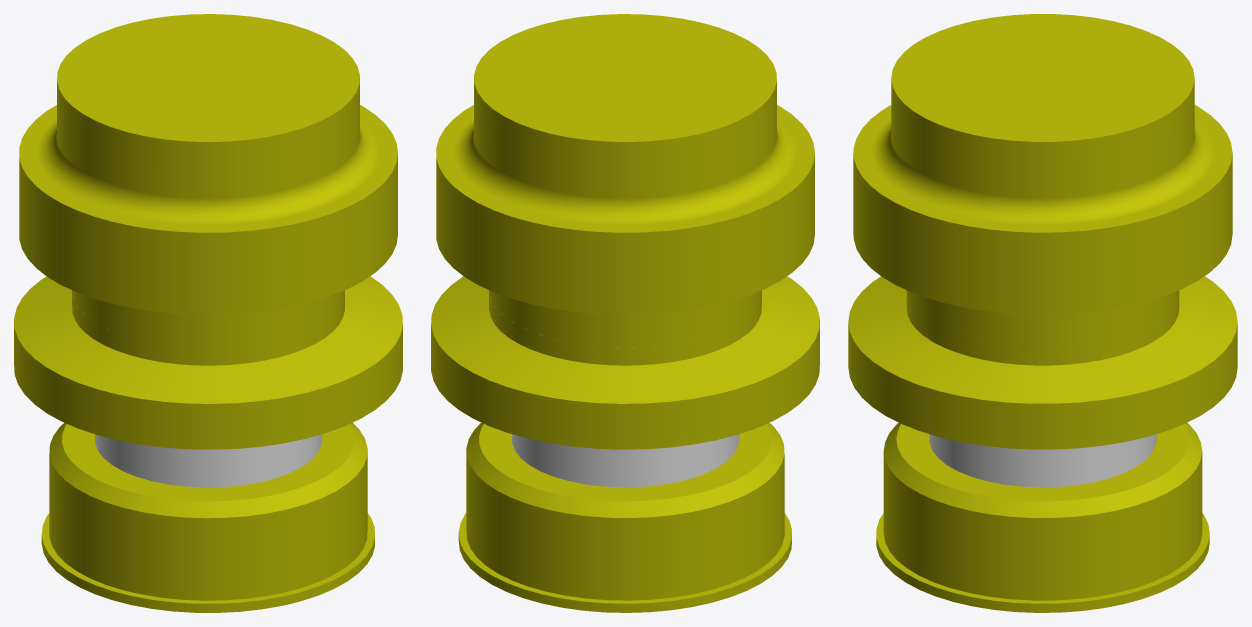
Rendered from L7-withFTextension.dae.
3 views of the same model, side by side, from view 1: azimuth 30°, elevation 25°; view 2: azimuth 150°, elevation 25°; view 3: azimuth 270°, elevation 25° (orthographic).
Visible parts, largest first — view 1: Actor0, ft; view 2: Actor0, ft; view 3: Actor0, ft.
Part boxes in pixels (left/top/right/bottom): Actor0: left=19, top=14, right=397, bottom=347; ft: left=14, top=276, right=402, bottom=612; Actor0: left=436, top=14, right=814, bottom=347; ft: left=431, top=276, right=819, bottom=612; Actor0: left=853, top=14, right=1232, bottom=347; ft: left=848, top=276, right=1237, bottom=612.
Size of the model in its own units: 0.0768 by 0.1014 by 0.077.
